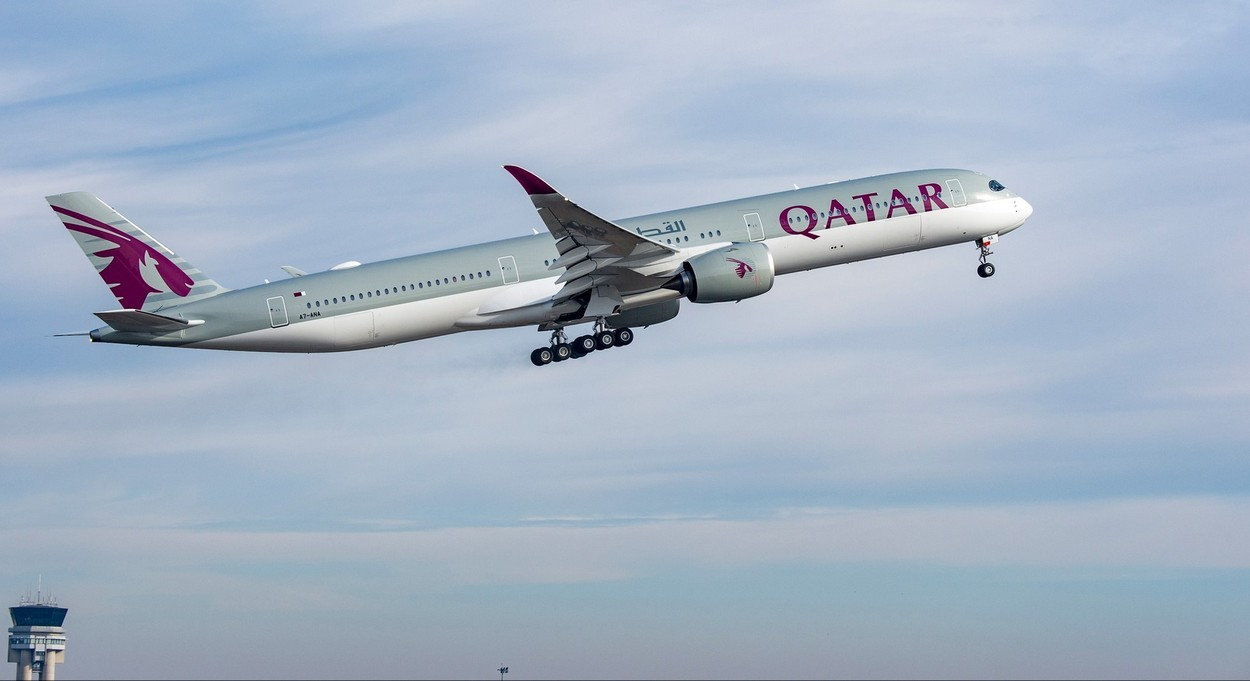Aeronef_commercial: (35, 150, 1050, 373)
